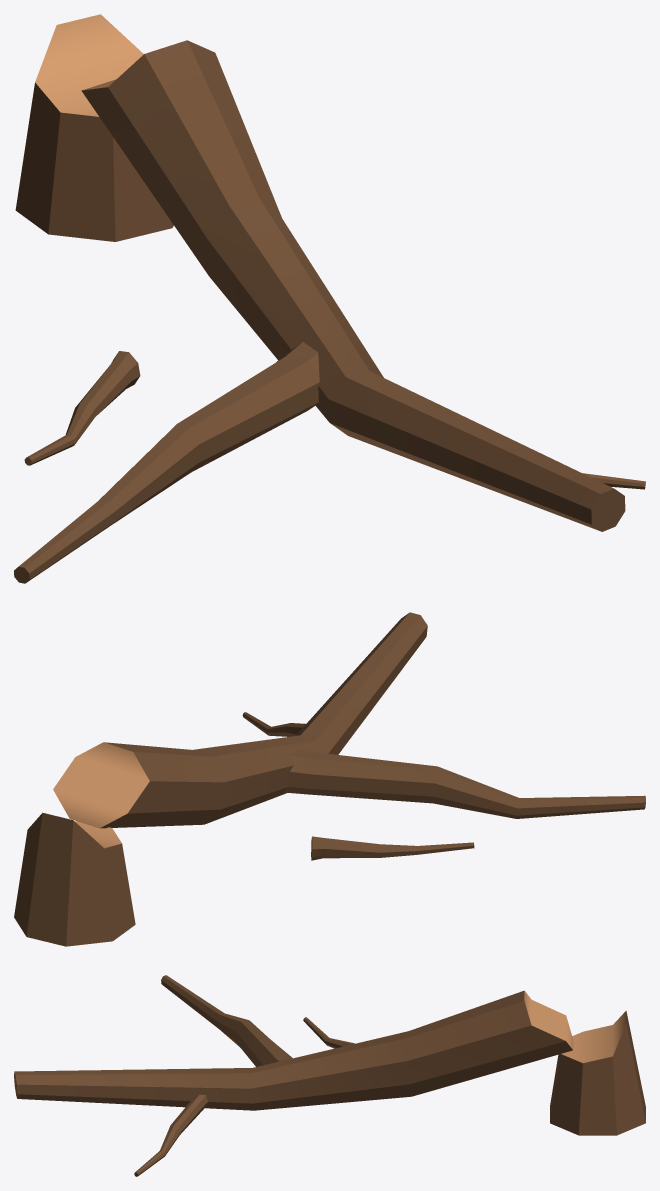
The model's file is Prop_Deadtree_01.fbx.
3 renders of one model, top to bottom at view 1: azimuth 30°, elevation 25°; view 2: azimuth 150°, elevation 25°; view 3: azimuth 270°, elevation 25°, orthographic. The views are drawn at different scales.
Visible parts, largest first — view 1: prop_deadtree_01; view 2: prop_deadtree_01; view 3: prop_deadtree_01.
Boxes of the visible parts, x1,y1,x2,y2 form: prop_deadtree_01: (14,14,645,583); prop_deadtree_01: (14,612,645,946); prop_deadtree_01: (14,975,645,1176).
Bounding box in the file's own units: 322 × 121 × 496.
